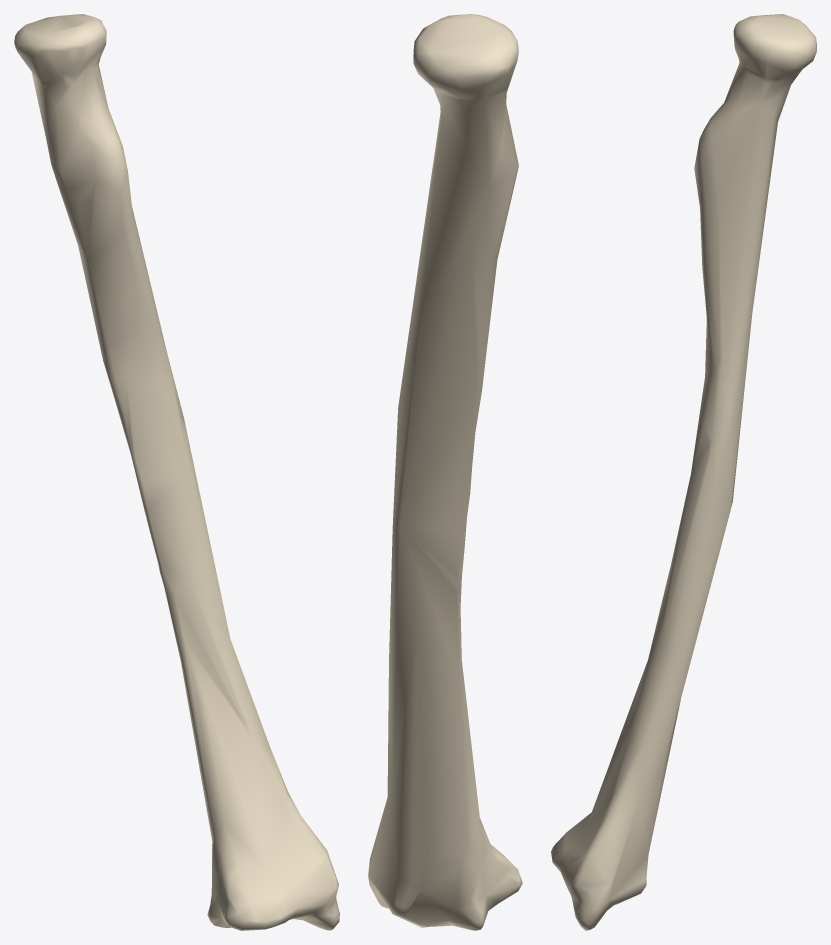
File: radius-l.glb
The picture shows the model from 3 angles, left to right: view 1: azimuth 30°, elevation 25°; view 2: azimuth 150°, elevation 25°; view 3: azimuth 270°, elevation 25°; orthographic projection. The views are drawn at different scales.
Visible parts, largest first — view 1: Radius.l; view 2: Radius.l; view 3: Radius.l.
Boxes of the visible parts, box(x1,y1,x2,y2) form: Radius.l: box(14, 14, 339, 930); Radius.l: box(368, 14, 522, 930); Radius.l: box(551, 14, 816, 930).
Size of the model in its own units: 0.0618 by 0.237 by 0.0687.
